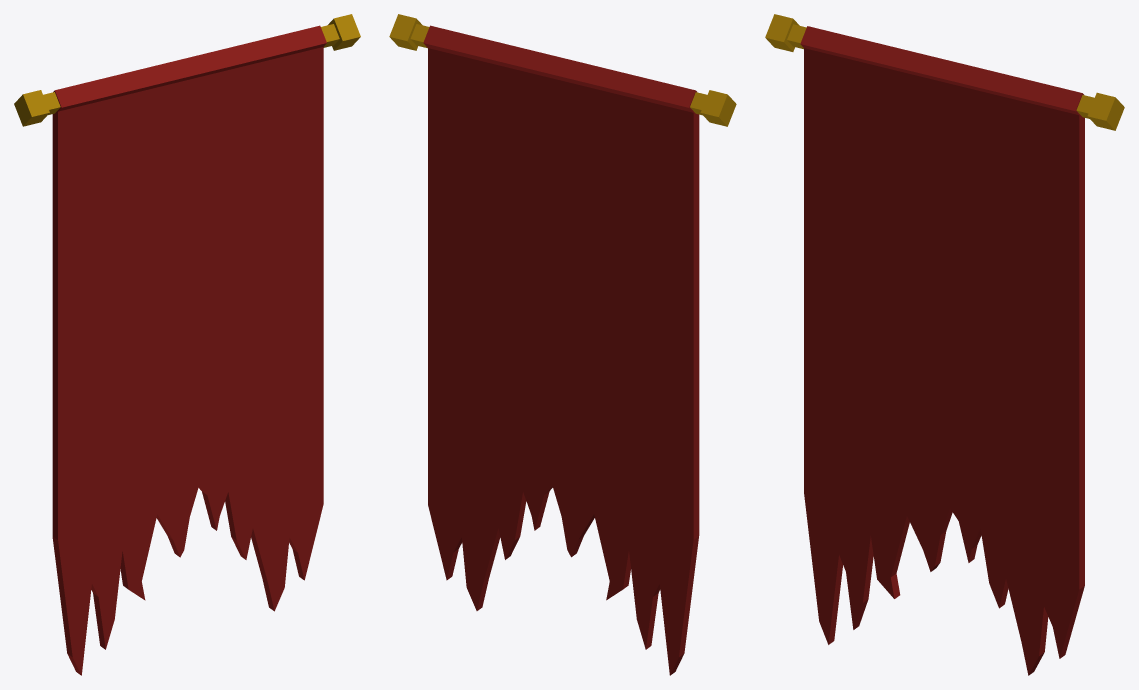
Rendered from BannerRipped2.fbx.
3 views of the same model, side by side, from view 1: azimuth 30°, elevation 25°; view 2: azimuth 150°, elevation 25°; view 3: azimuth 330°, elevation 25° (orthographic). The views are drawn at different scales.
Visible parts, largest first — view 1: Cube.013; view 2: Cube.013; view 3: Cube.013.
Part boxes in pixels (left/top/right/bottom): Cube.013: left=14, top=14, right=360, bottom=675; Cube.013: left=389, top=14, right=736, bottom=675; Cube.013: left=765, top=14, right=1124, bottom=675.
Bounding box in the file's own units: 2.72 × 0.2566 × 4.68.
